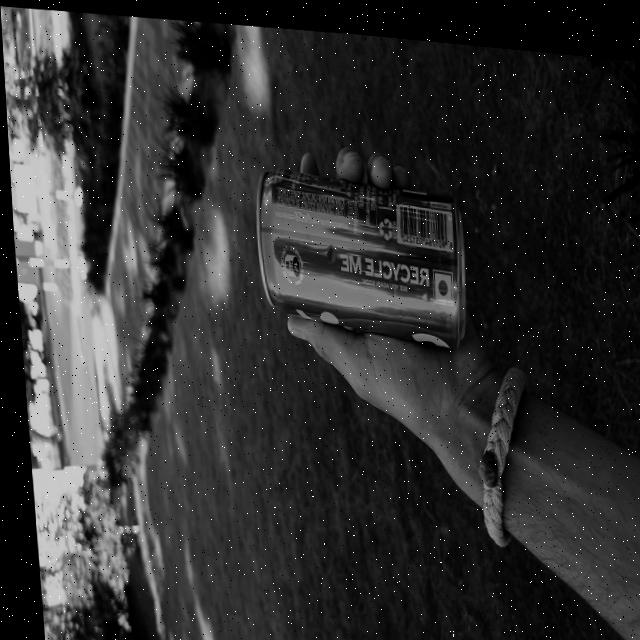Sprite: (252, 173, 466, 343)
